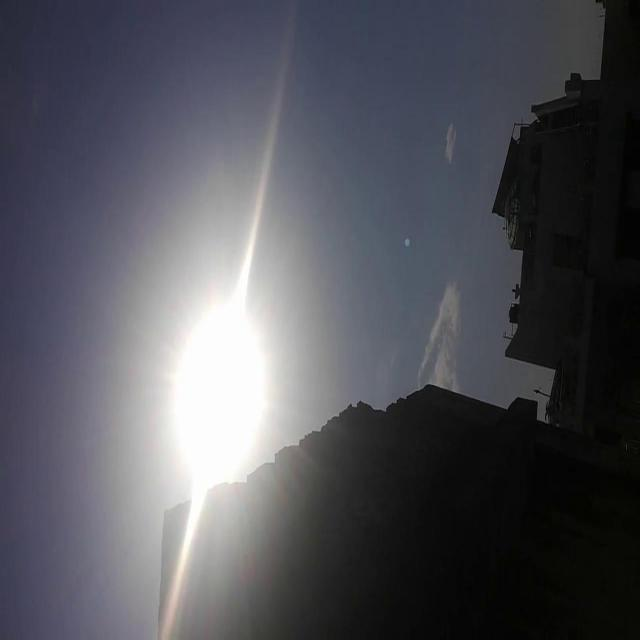other: (156, 226, 262, 509)
